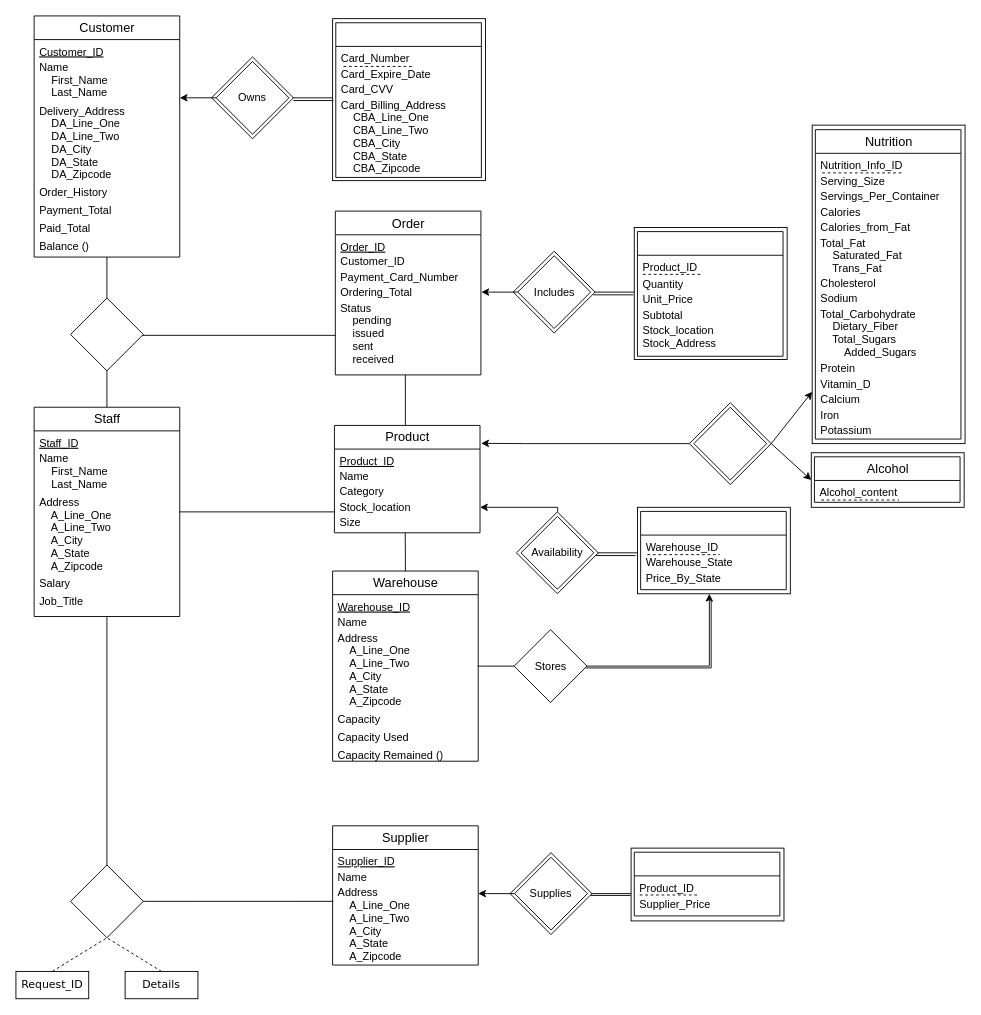
Image size: 981x1015. Some labels were removed from this diagram. The box of each missing label's shape, as (x1, y1, x2, y2) in pixels:
Credit_Card: (335, 22, 481, 177)
Label: (693, 406, 767, 480)
Order_Item: (637, 231, 783, 356)
Ordering: (70, 297, 143, 371)
Request: (70, 864, 143, 938)
Stock: (640, 511, 786, 590)
Supplier_Item: (633, 851, 780, 916)
